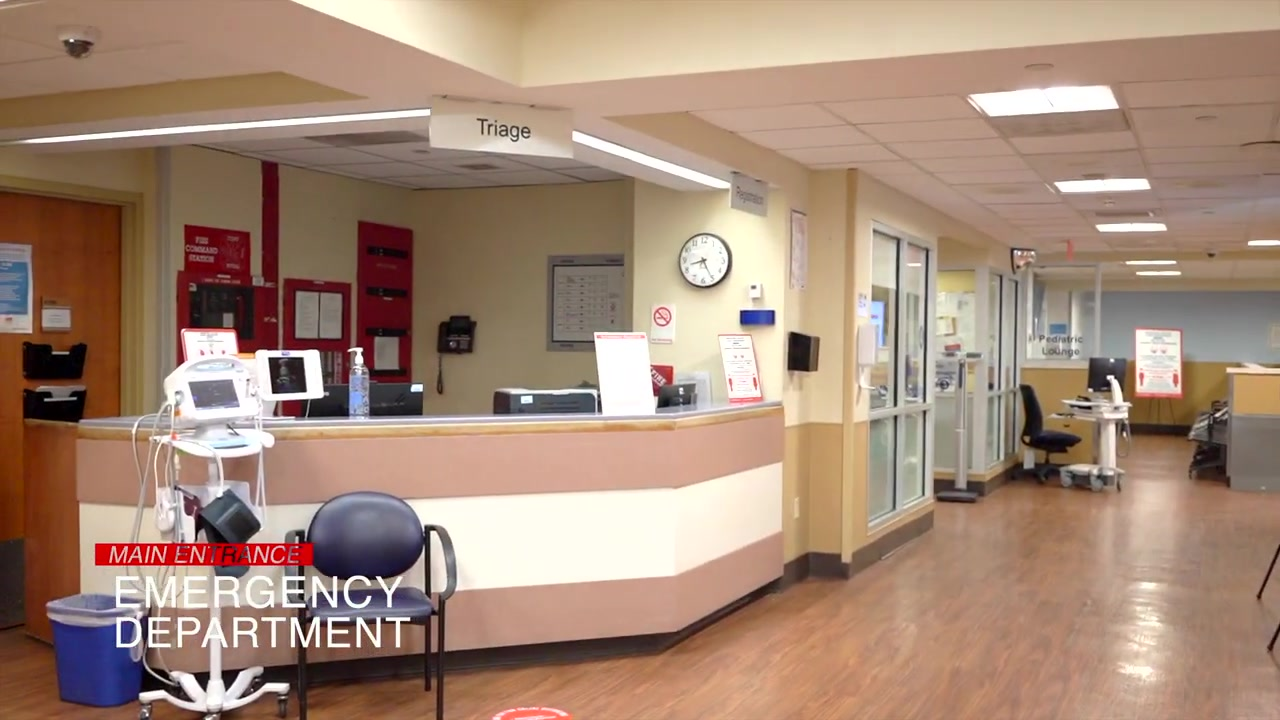chair: (283, 489, 456, 720), (1017, 380, 1080, 487)
computer: (302, 382, 425, 416), (1086, 359, 1129, 392)
counter: (74, 398, 795, 677), (1227, 367, 1280, 484)
dispenser: (345, 346, 372, 416), (860, 326, 885, 393)
telephone: (433, 314, 474, 398)
waste_bin: (43, 590, 157, 719)
